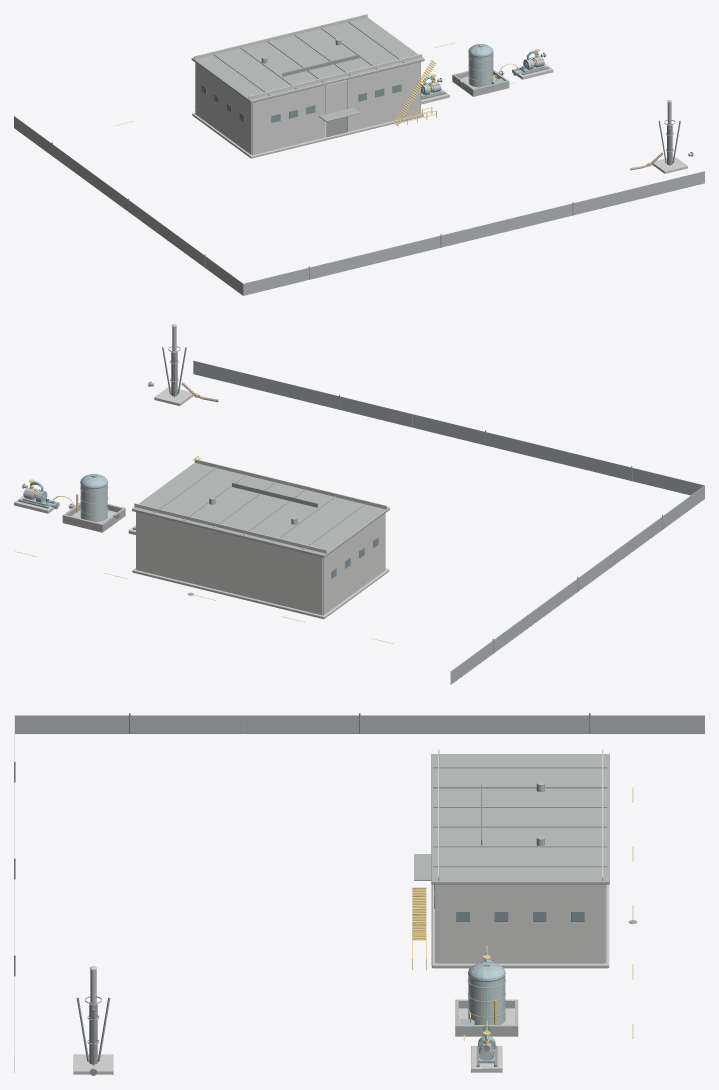
3 renders of one model, top to bottom at view 1: azimuth 30°, elevation 25°; view 2: azimuth 150°, elevation 25°; view 3: azimuth 270°, elevation 25°, orthographic. The views are drawn at different scales.
Parts seen in each view (by area): view 1: render-batch-14, render-batch-6, render-batch-8, render-batch-12, render-batch-13, render-batch-11, render-batch-2, render-batch-4, render-batch-17, render-batch-9, render-batch-0, render-batch-10 (+1 smaller); view 2: render-batch-14, render-batch-6, render-batch-8, render-batch-12, render-batch-11, render-batch-13, render-batch-9, render-batch-2, render-batch-3; view 3: render-batch-6, render-batch-14, render-batch-8, render-batch-11, render-batch-13, render-batch-12, render-batch-2, render-batch-9, render-batch-4, render-batch-17, render-batch-10, render-batch-0.
Boxes of the visible parts, x1=… form: render-batch-14: x1=194, y1=14, x2=422, y2=154; render-batch-6: x1=191, y1=17, x2=424, y2=121; render-batch-8: x1=14, y1=38, x2=704, y2=295; render-batch-12: x1=192, y1=112, x2=423, y2=158; render-batch-13: x1=421, y1=63, x2=687, y2=173; render-batch-11: x1=421, y1=53, x2=672, y2=102; render-batch-2: x1=421, y1=52, x2=693, y2=165; render-batch-4: x1=421, y1=44, x2=545, y2=97; render-batch-17: x1=393, y1=60, x2=436, y2=127; render-batch-9: x1=452, y1=69, x2=509, y2=96; render-batch-0: x1=201, y1=84, x2=401, y2=122; render-batch-10: x1=429, y1=53, x2=692, y2=156; render-batch-14: x1=134, y1=459, x2=387, y2=615; render-batch-6: x1=132, y1=463, x2=389, y2=557; render-batch-8: x1=193, y1=360, x2=704, y2=684; render-batch-12: x1=132, y1=568, x2=389, y2=619; render-batch-11: x1=23, y1=324, x2=177, y2=522; render-batch-13: x1=14, y1=387, x2=194, y2=534; render-batch-9: x1=62, y1=502, x2=125, y2=532; render-batch-2: x1=18, y1=347, x2=199, y2=529; render-batch-3: x1=187, y1=394, x2=662, y2=653; render-batch-6: x1=414, y1=754, x2=609, y2=884; render-batch-14: x1=435, y1=749, x2=606, y2=963; render-batch-8: x1=14, y1=715, x2=704, y2=1072; render-batch-11: x1=89, y1=966, x2=505, y2=1060; render-batch-13: x1=73, y1=1008, x2=514, y2=1074; render-batch-12: x1=431, y1=884, x2=609, y2=968; render-batch-2: x1=76, y1=959, x2=497, y2=1075; render-batch-9: x1=455, y1=999, x2=518, y2=1036; render-batch-4: x1=459, y1=960, x2=505, y2=1063; render-batch-17: x1=412, y1=887, x2=426, y2=969; render-batch-10: x1=85, y1=959, x2=505, y2=1068; render-batch-0: x1=434, y1=884, x2=584, y2=921.
Size of the model in its own units: 73.84 by 9.74 by 61.49.
